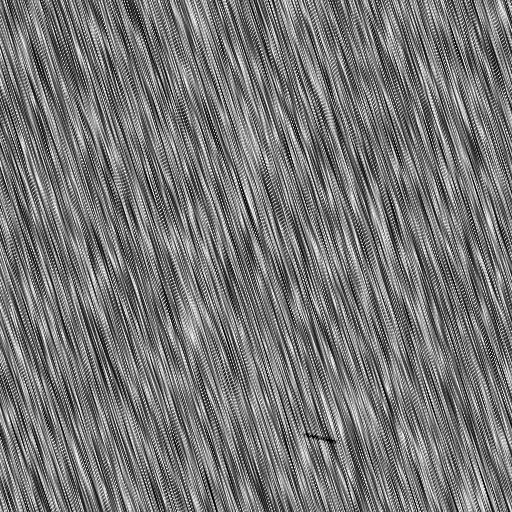DefectTypeC: (303, 431, 337, 447)
